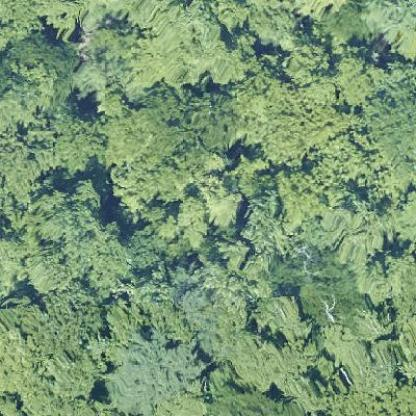tree-top: (31, 180, 133, 290), (109, 331, 198, 412), (366, 77, 415, 184)
